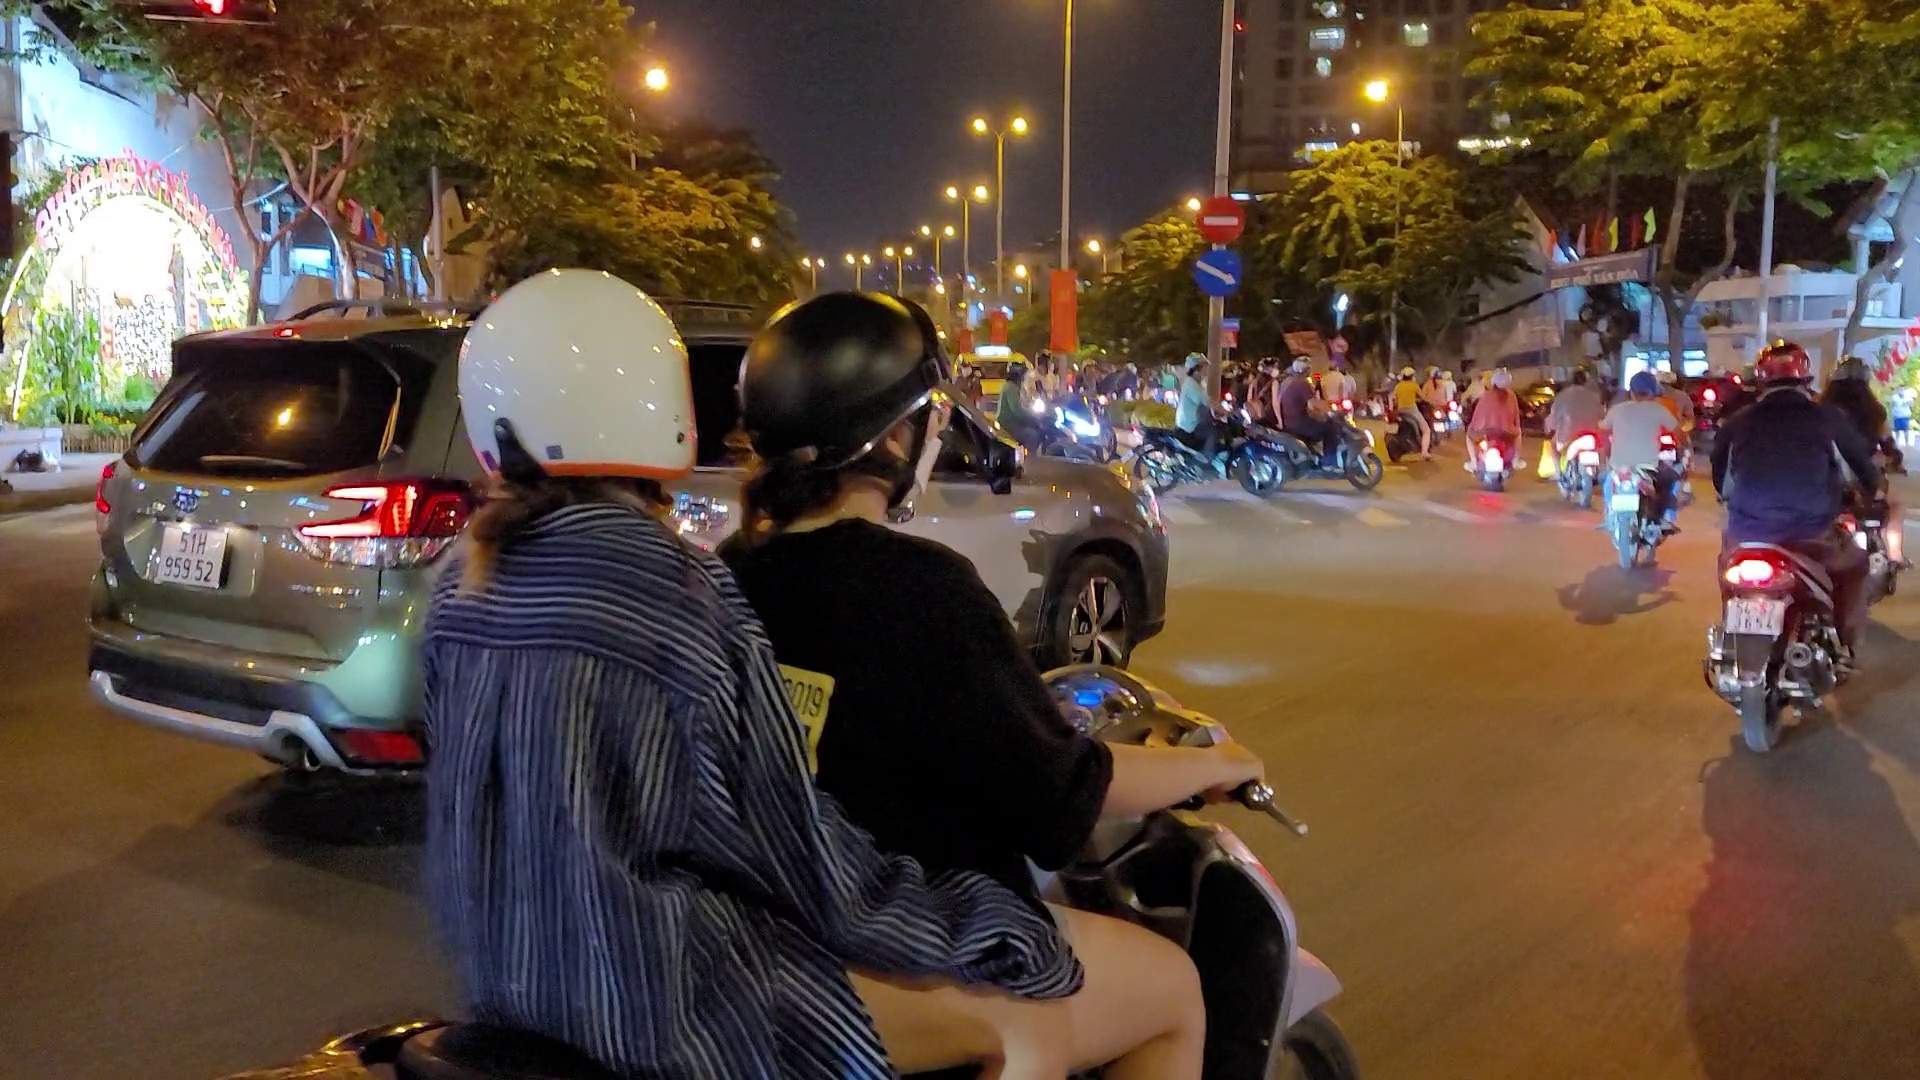Cam di nguoc chieu: (1193, 191, 1245, 247)
Huong di phai re phai: (1188, 241, 1245, 301)
